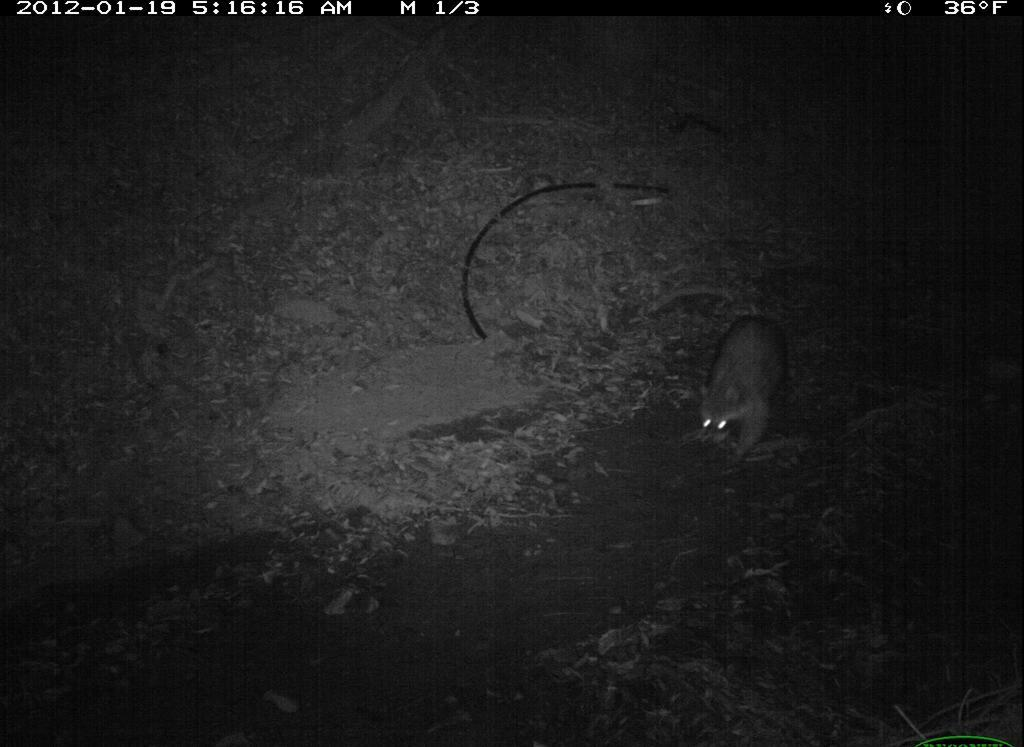raccoon: (692, 299, 804, 472)
